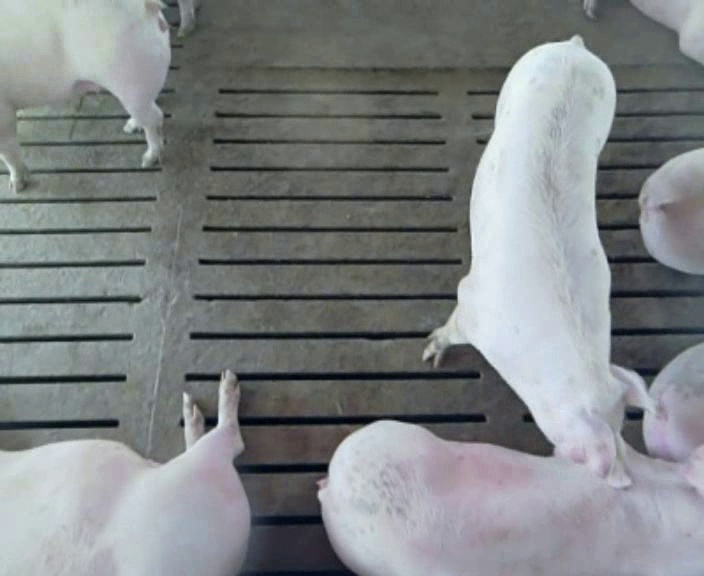pig: (423, 36, 664, 487), (319, 421, 703, 574), (0, 370, 249, 574), (639, 148, 703, 274), (643, 343, 703, 462)
